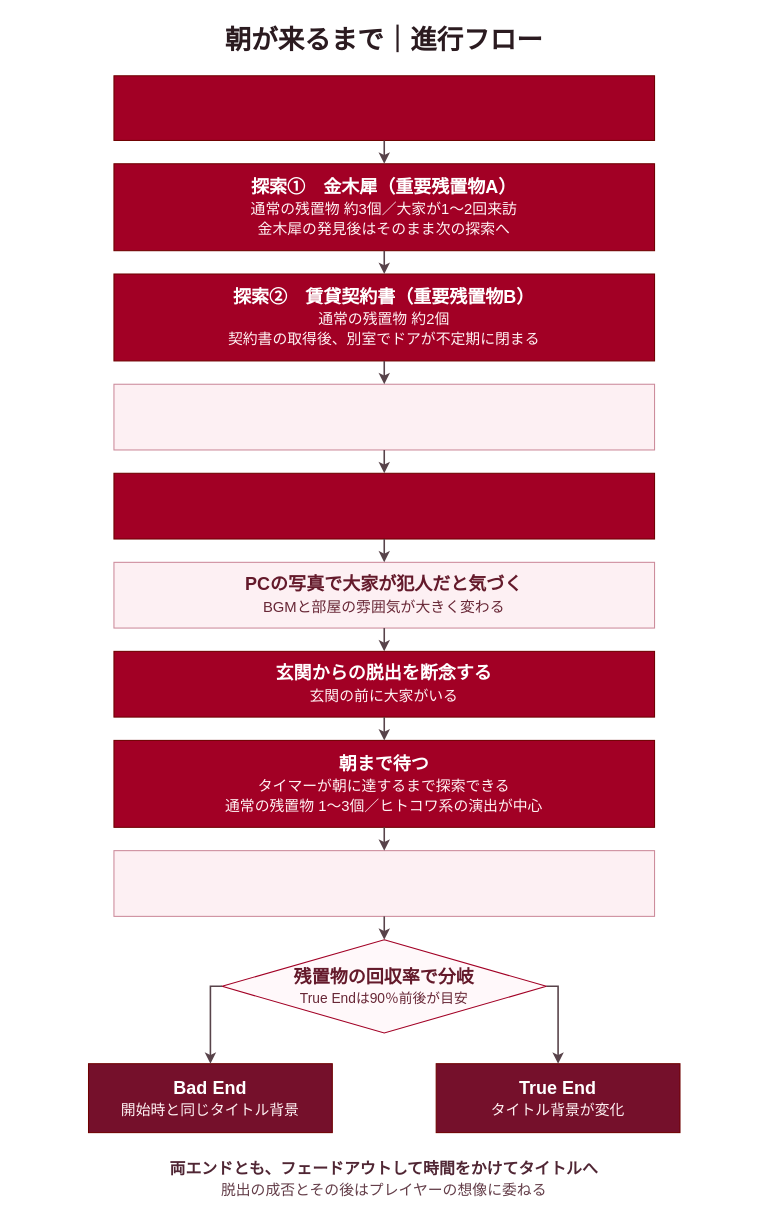
The diagram is 767 pixels wide and 1221 high, and some of its shapes have lost their labels. Each missing label, with the centre of its shape:
"入居・大家と話す 大家の部屋番号を聞く" goes at (x=384, y=107).
"大家が1回来訪する 「何かあったら○○号室まで来てね」（部屋番号は赤字）" goes at (x=384, y=416).
"探索③ メモリカード（重要残置物C） 通常の残置物 約1個／カードはトイレのタンクにある" goes at (x=384, y=505).
"朝になり、玄関から外へ出る 玄関の前から大家がいなくなる" goes at (x=384, y=883).
